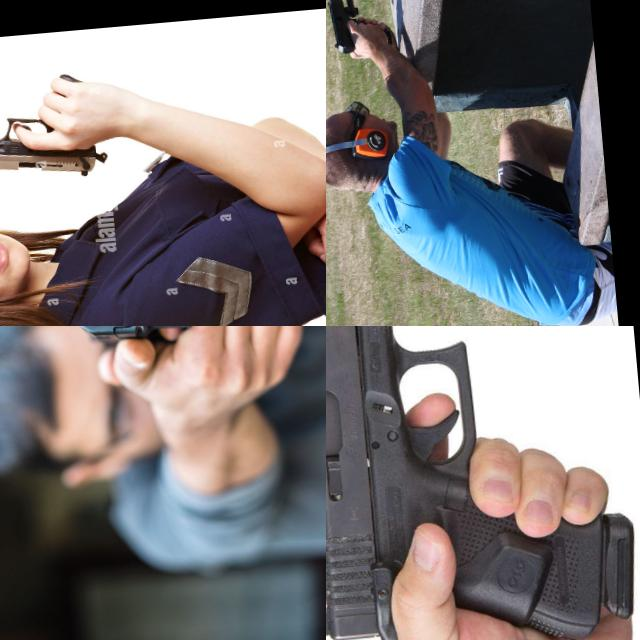handgun: (326, 326, 640, 640), (0, 105, 110, 188), (65, 326, 197, 364), (326, 0, 365, 54)
